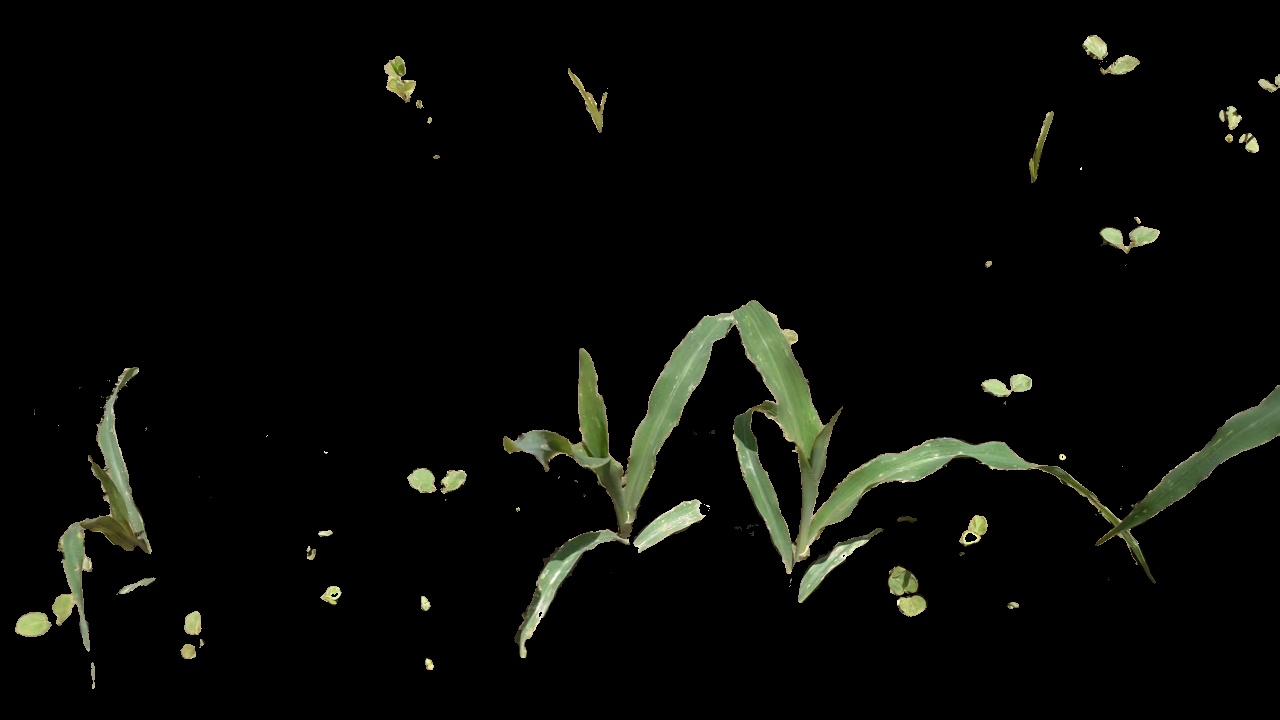crop: (744, 300, 1153, 646), (502, 291, 727, 661), (54, 346, 202, 614)
weed: (560, 59, 625, 136), (2, 581, 78, 636), (1072, 33, 1151, 78), (876, 562, 934, 619), (402, 465, 482, 501), (1220, 94, 1262, 159), (372, 50, 422, 101), (1102, 211, 1167, 250), (982, 372, 1043, 404), (178, 607, 208, 663), (956, 517, 989, 546), (320, 581, 346, 613)
